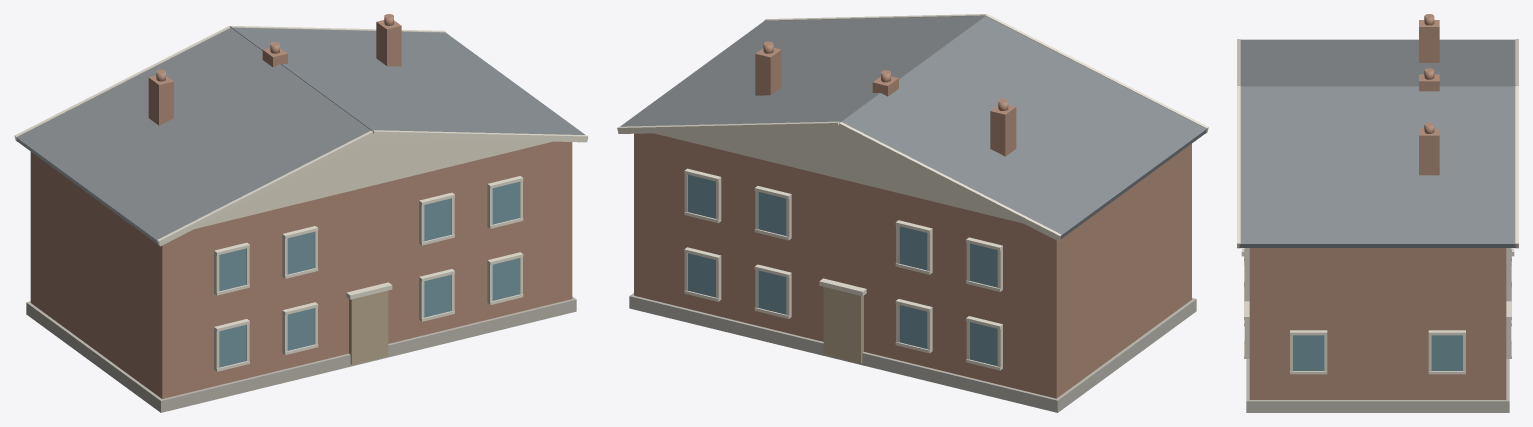
The model's file is tyne-terrace_lod1.glb.
3 views of the same model, side by side, from view 1: azimuth 30°, elevation 25°; view 2: azimuth 150°, elevation 25°; view 3: azimuth 270°, elevation 25° (orthographic). The views are drawn at different scales.
Visible parts, largest first — view 1: RF_Body, RF_Roof.001, RF_Roof, RF_Gable, RF_Foundation, RF_Door.001, RF_Vergeband.001, RF_Vergeband.003, RF_Chimney.001, RF_Chimney, RF_Window.002, RF_Window.006 (+7 smaller); view 2: RF_Body, RF_Roof.001, RF_Roof, RF_Gable.001, RF_Foundation, RF_Door, RF_Vergeband.002, RF_Vergeband, RF_Chimney.001, RF_Chimney, RF_Window.010, RF_Window.009 (+8 smaller); view 3: RF_Roof, RF_Body, RF_Roof.001, RF_Foundation, RF_Window.017, RF_Window, RF_Chimney, RF_Chimney.001, RF_Vergeband, RF_Vergeband.003, RF_Chimney.002.
Boxes of the visible parts, x1,y1,x2,y2 form: RF_Body: (30,141,572,398); RF_Roof.001: (16,28,370,244); RF_Roof: (231,27,584,134); RF_Gable: (195,137,551,228); RF_Foundation: (26,296,576,412); RF_Door.001: (349,290,388,364); RF_Vergeband.001: (157,130,373,246); RF_Vergeband.003: (372,130,588,142); RF_Chimney.001: (148,75,173,125); RF_Chimney: (376,20,401,66); RF_Window.002: (219,248,246,291); RF_Window.006: (424,198,451,241); RF_Body: (634,133,1191,398); RF_Roof.001: (842,16,1206,239); RF_Roof: (620,15,985,126); RF_Gable.001: (654,129,1022,223); RF_Foundation: (629,293,1196,412); RF_Door: (823,287,863,363); RF_Vergeband.002: (838,122,1061,241); RF_Vergeband: (617,121,839,133); RF_Chimney.001: (990,105,1016,156); RF_Chimney: (755,47,781,95); RF_Window.010: (969,243,997,287); RF_Window.009: (969,322,997,366); RF_Roof: (1239,86,1516,247); RF_Body: (1249,248,1506,399); RF_Roof.001: (1240,39,1516,86); RF_Foundation: (1246,359,1509,412); RF_Window.017: (1293,335,1324,370); RF_Window: (1431,335,1462,370); RF_Chimney: (1419,128,1439,175); RF_Chimney.001: (1419,20,1439,62); RF_Vergeband: (1515,86,1518,248); RF_Vergeband.003: (1237,86,1240,248); RF_Chimney.002: (1419,74,1439,91).
Size of the model in its own units: 18.86 by 10.47 by 10.98.
